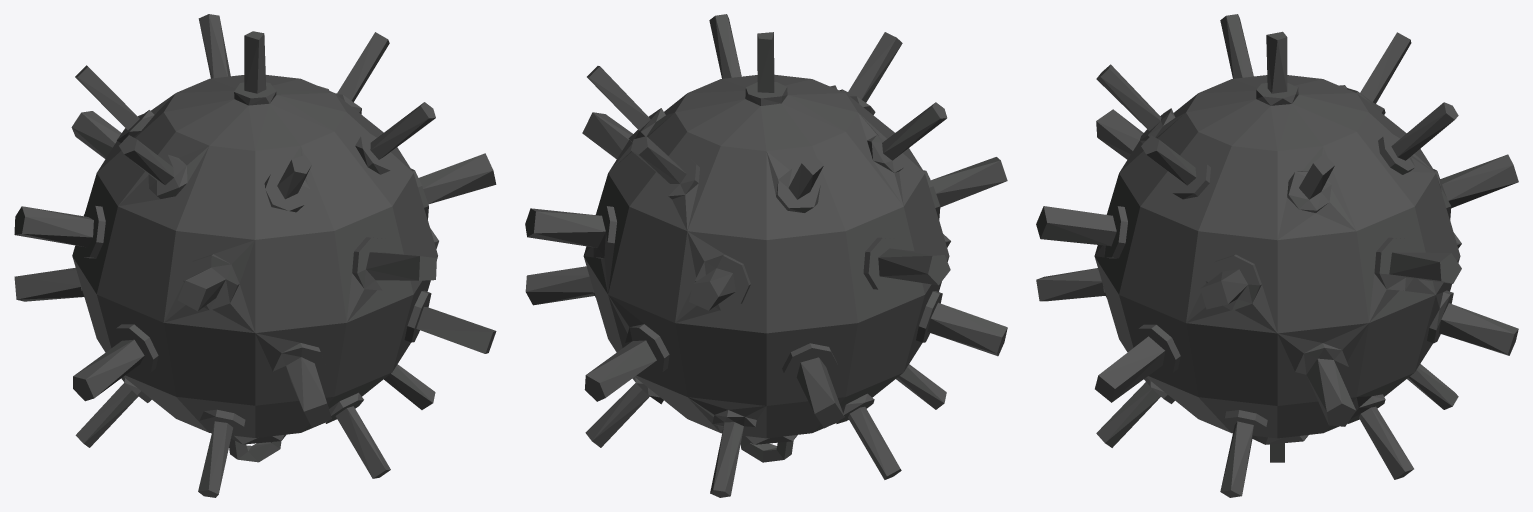
The model's file is Naval_Mine_001.fbx.
The picture shows the model from 3 angles, left to right: view 1: azimuth 30°, elevation 25°; view 2: azimuth 150°, elevation 25°; view 3: azimuth 270°, elevation 25°; orthographic projection.
Visible parts, largest first — view 1: Naval_Mine_001; view 2: Naval_Mine_001; view 3: Naval_Mine_001.
Boxes of the visible parts, bbox=[...] form: Naval_Mine_001: bbox=[14, 14, 496, 497]; Naval_Mine_001: bbox=[525, 14, 1007, 497]; Naval_Mine_001: bbox=[1036, 14, 1518, 497].
Size of the model in its own units: 0.5341 by 0.5179 by 0.5343.
